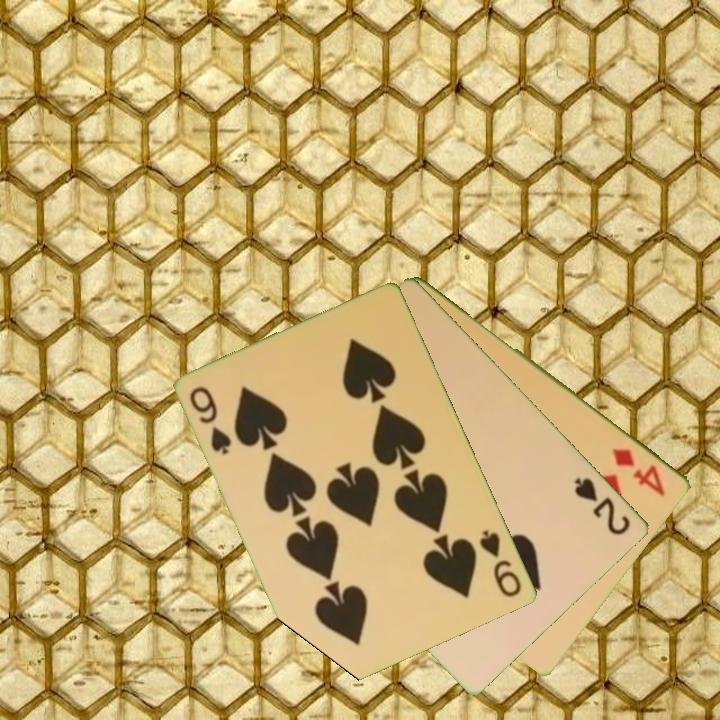2s: (571, 474, 634, 538)
4d: (609, 444, 669, 499)
9s: (186, 383, 235, 458), (476, 526, 525, 600)
